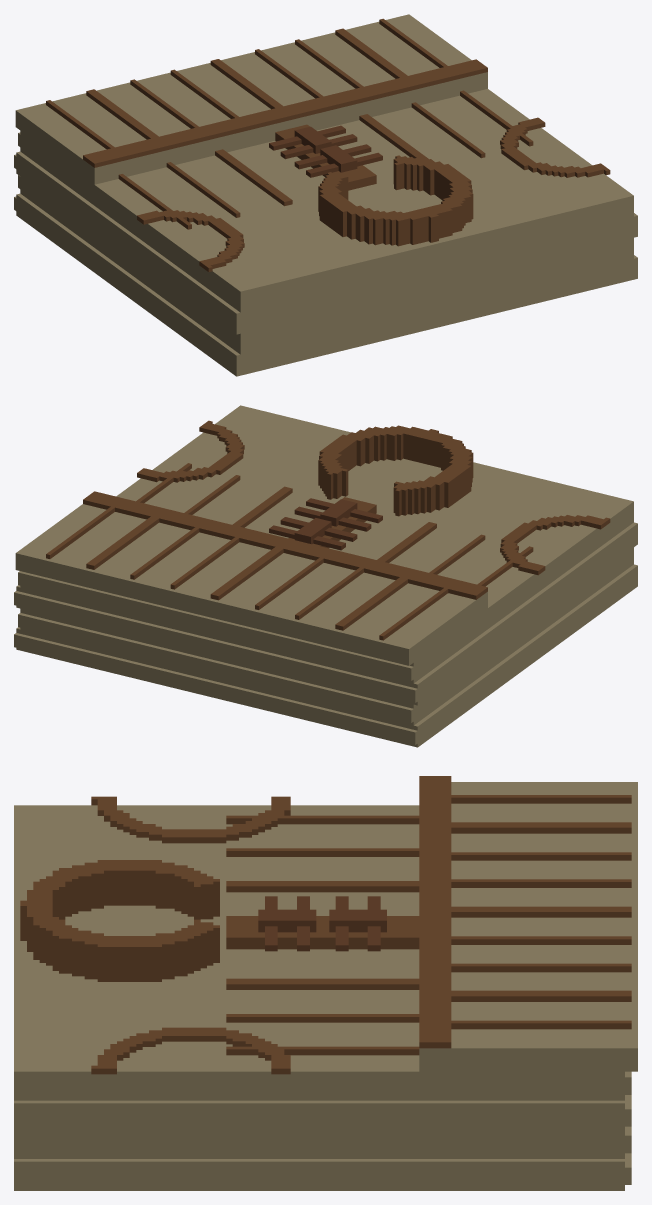
File: gambeson_canvas_vest.glb
The picture shows the model from 3 angles, top to bottom: view 1: azimuth 30°, elevation 25°; view 2: azimuth 150°, elevation 25°; view 3: azimuth 270°, elevation 25°; orthographic projection. The views are drawn at different scales.
Visible parts, largest first — view 1: gambeson_canvas_vest:compound; view 2: gambeson_canvas_vest:compound; view 3: gambeson_canvas_vest:compound.
Boxes of the visible parts, x1,y1,x2,y2 form: gambeson_canvas_vest:compound: (14,14,637,376); gambeson_canvas_vest:compound: (14,405,637,747); gambeson_canvas_vest:compound: (14,776,637,1190).
Size of the model in its own units: 0.4 by 0.104 by 0.388.
